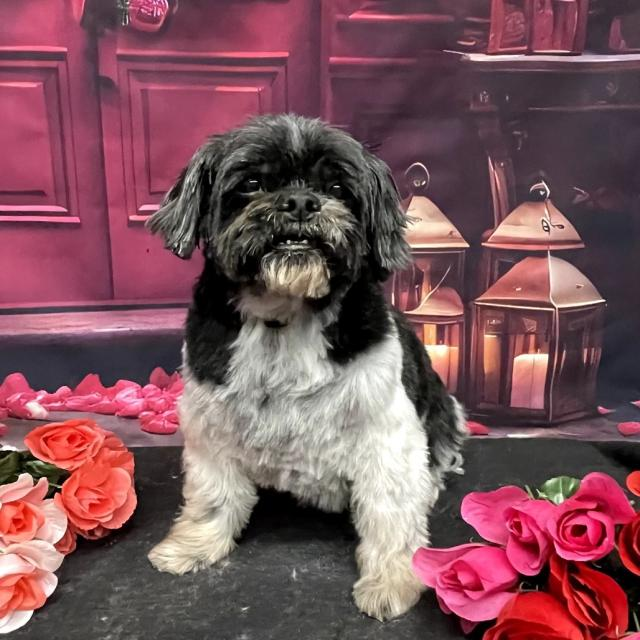shih_tzu_dog: (140, 111, 420, 322)
